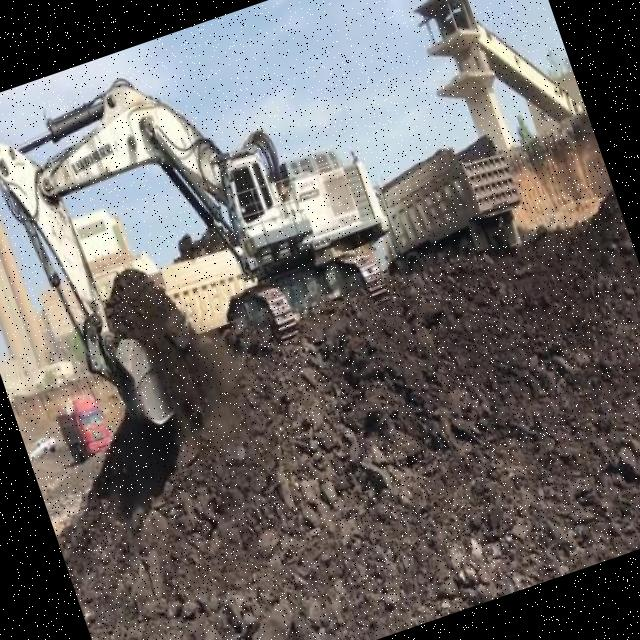Dump Truck: (370, 124, 536, 286), (144, 236, 270, 352), (50, 388, 122, 466)
Excavator: (0, 4, 425, 446)
